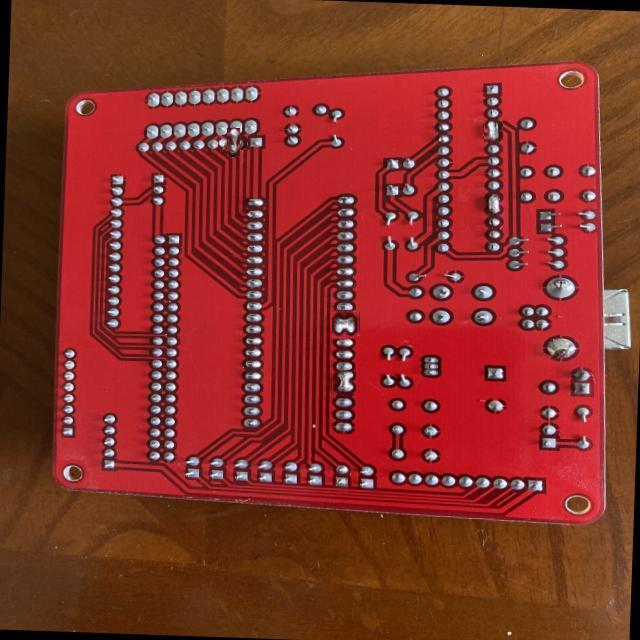damged: (331, 311, 359, 338), (332, 370, 356, 395), (222, 132, 244, 154), (485, 191, 504, 216), (484, 119, 503, 143)
